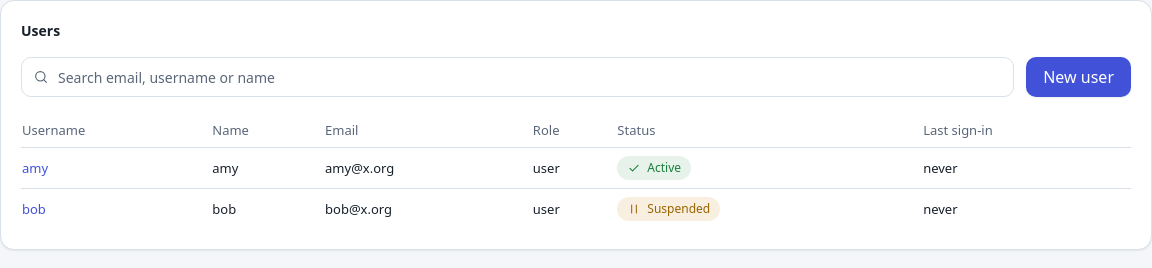
Scenario: Users › shows a status badge per user and filters with the search box
Expected: the text "Active" is shown, [617,156,691,180]
Expected: the text "Suspended" is shown, [617,197,720,221]
Type "bob" into the field labelled "Search".
click(518, 77); type("bob")  # box [21,57,1014,97]
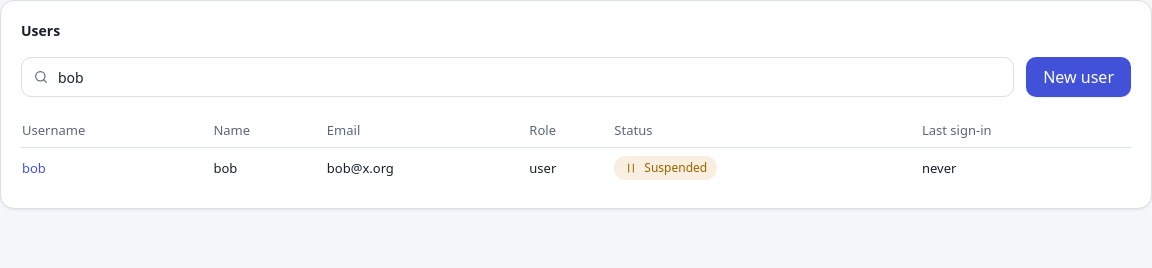
Expected: the link "amy" is gone
